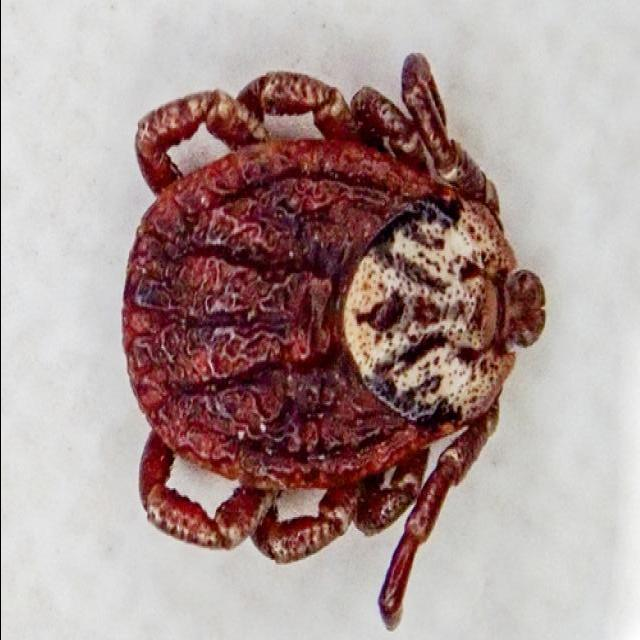Dermacentor Reticulatus-F: (121, 55, 544, 630)
